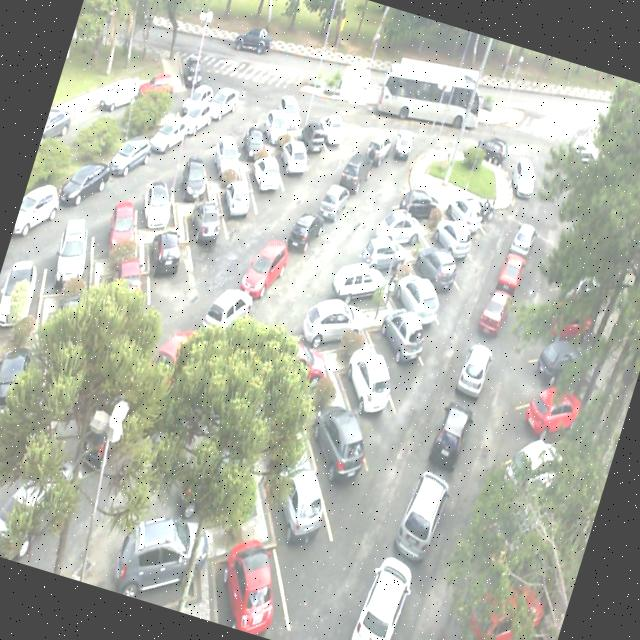occupied: (103, 487, 225, 616), (200, 500, 310, 640), (246, 452, 354, 582), (288, 388, 384, 506), (327, 342, 411, 439), (40, 203, 110, 300), (352, 296, 429, 382), (86, 170, 158, 261), (288, 283, 367, 361), (135, 210, 202, 296), (382, 261, 456, 337), (129, 151, 194, 236), (329, 248, 397, 314), (178, 184, 236, 260), (341, 218, 410, 280), (208, 158, 267, 230), (406, 230, 470, 296), (168, 140, 226, 210), (426, 208, 486, 267), (374, 198, 436, 252), (242, 144, 296, 206), (201, 121, 253, 185), (266, 119, 320, 180), (443, 190, 501, 246), (253, 90, 303, 152), (229, 108, 279, 168), (386, 172, 444, 222), (291, 108, 337, 164)
